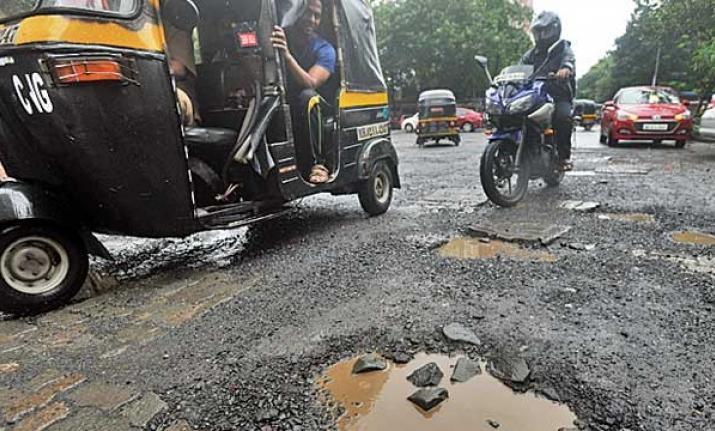pothole: (274, 335, 570, 429), (420, 205, 554, 286), (586, 188, 648, 228), (661, 217, 708, 260)
